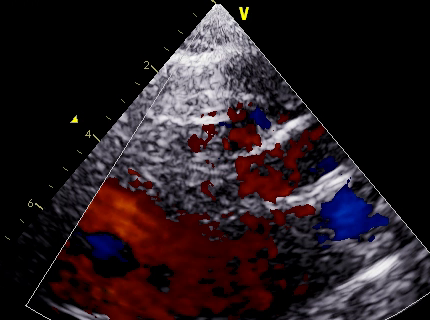AR: (219, 143, 311, 209)
